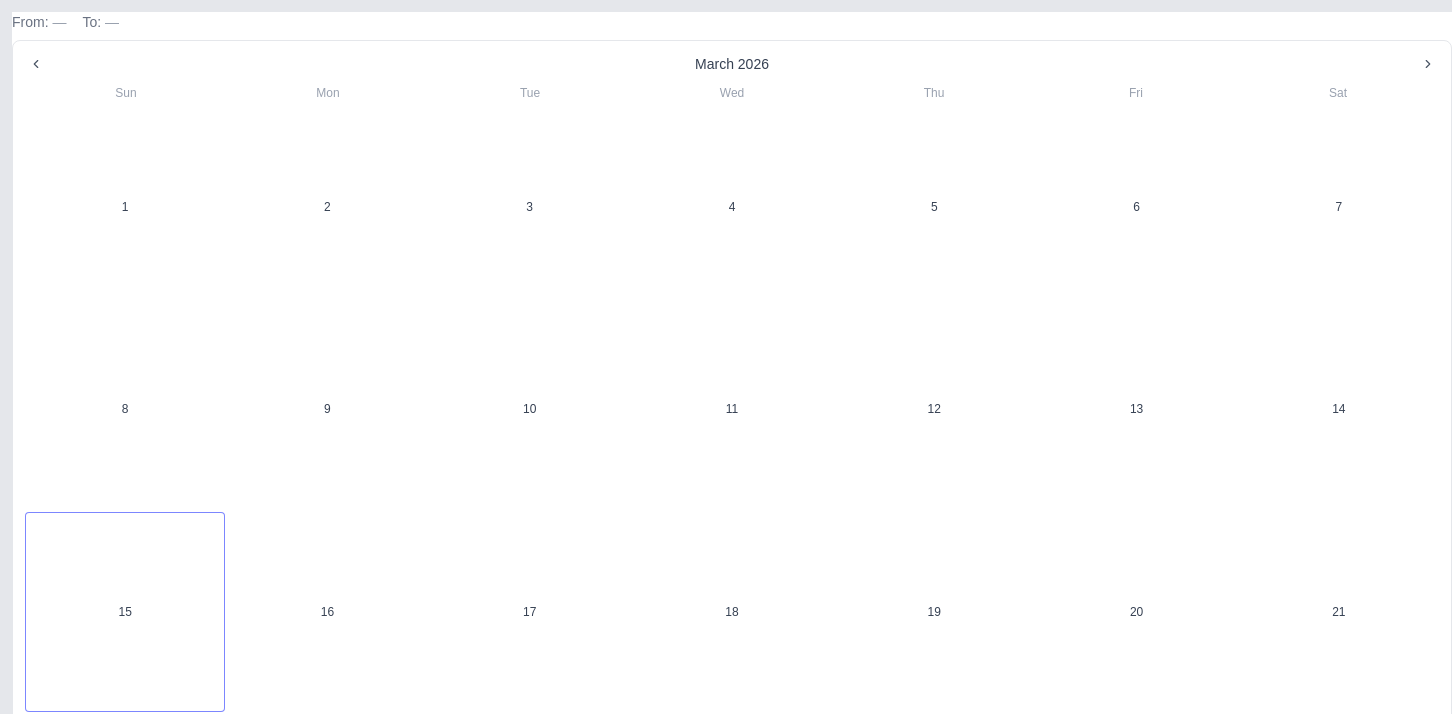
Scenario: DateRangePicker — selecting dates › shows both dates in the summary after selecting a range
What coordinates should you click on to do the following:
click the button named "2026-03-09"
I would click on:
 (327, 409)
Its box is [227,309,428,510].
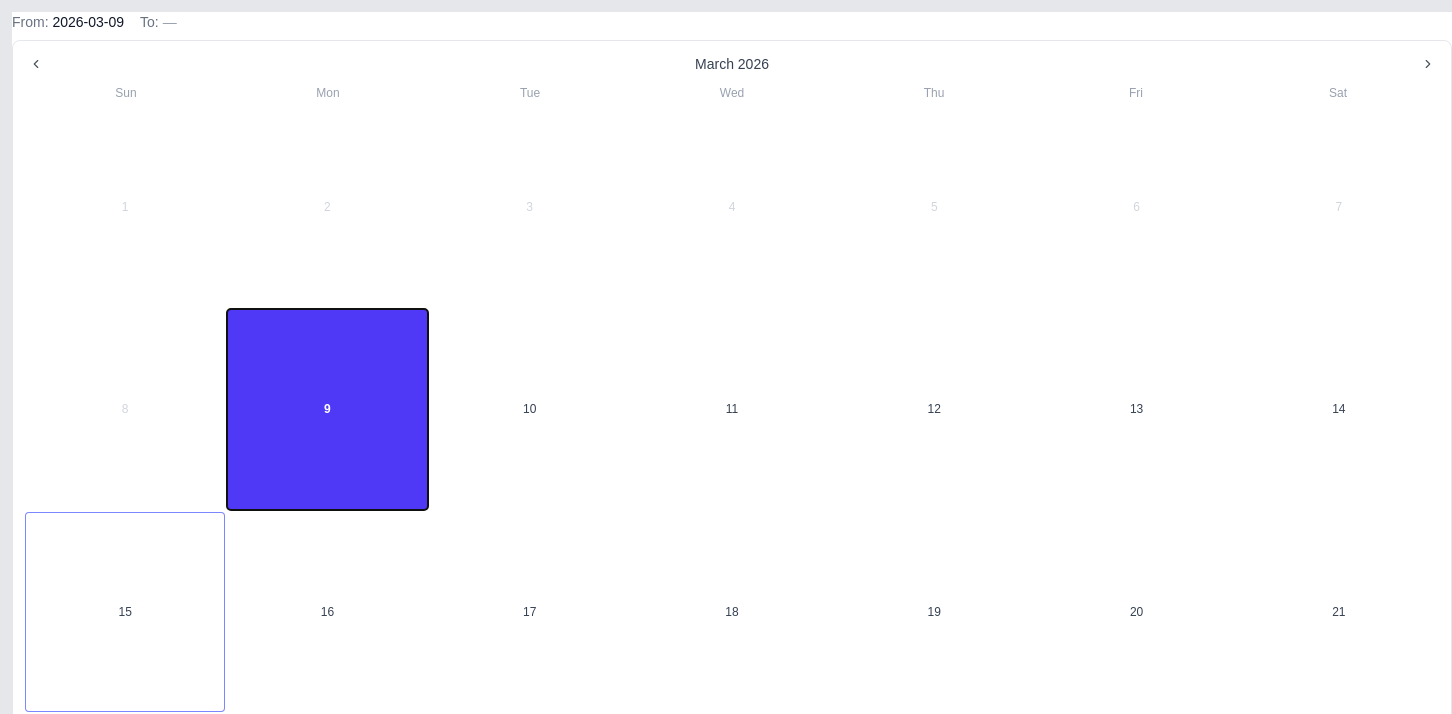
What coordinates should you click on to do the following:
click the button named "2026-03-13"
I would click on:
 (1137, 409)
Its box is [1036,309,1237,510].
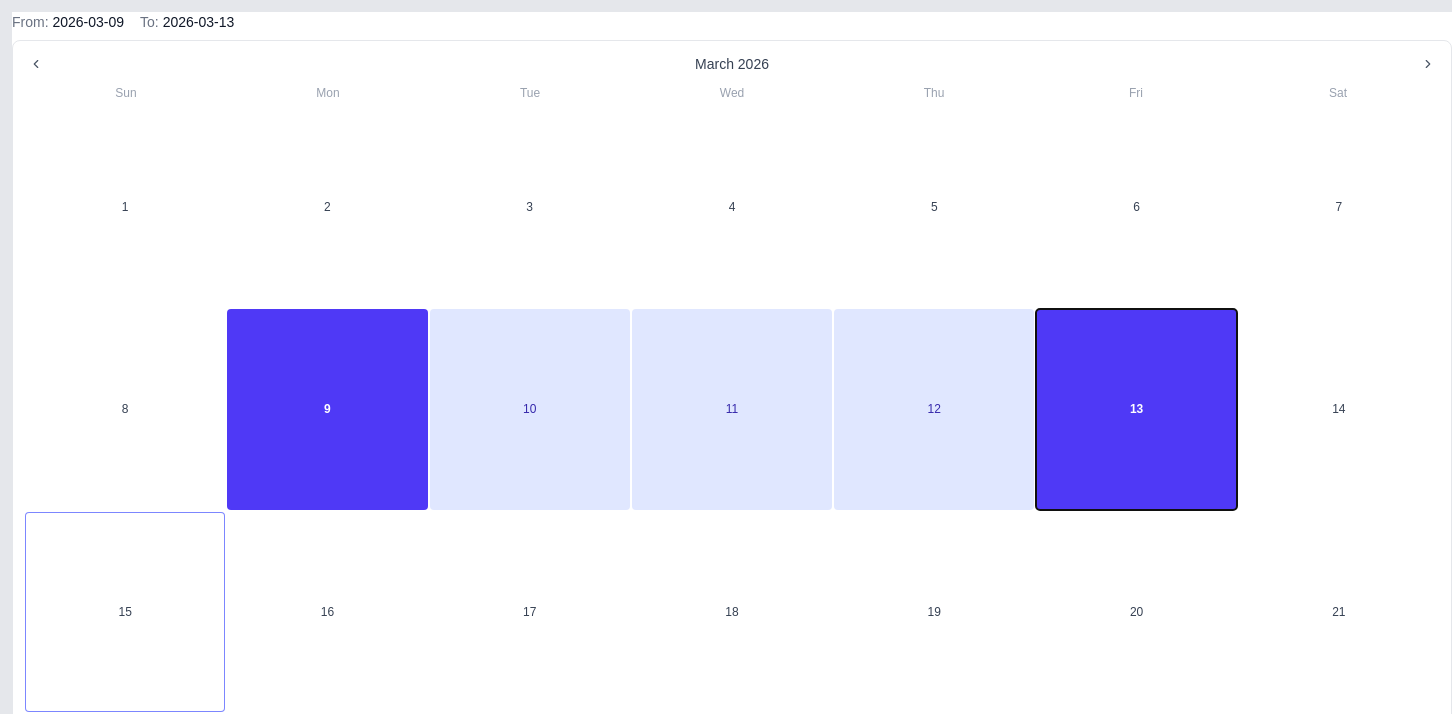
Now the text "2026-03-09" is shown, box [52,14,124,30]
Now the text "2026-03-13" is shown, box [163,14,234,30]
